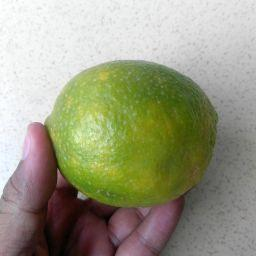Unripe: (48, 61, 221, 205)
